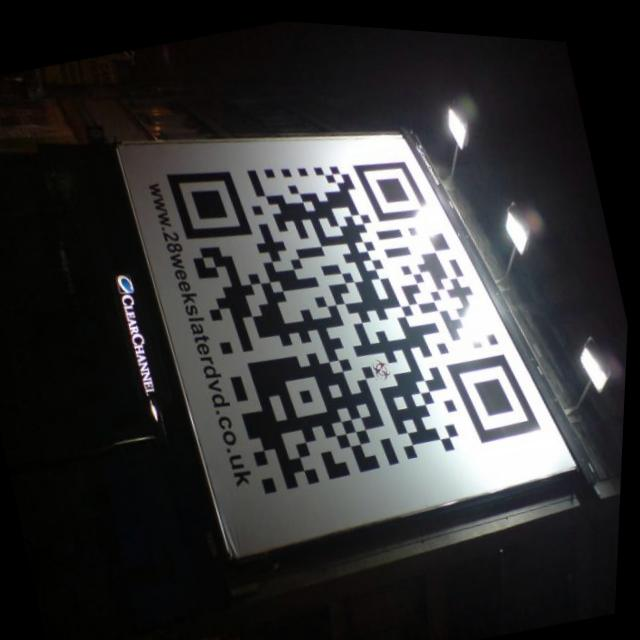qrcode: (156, 91, 558, 514)
